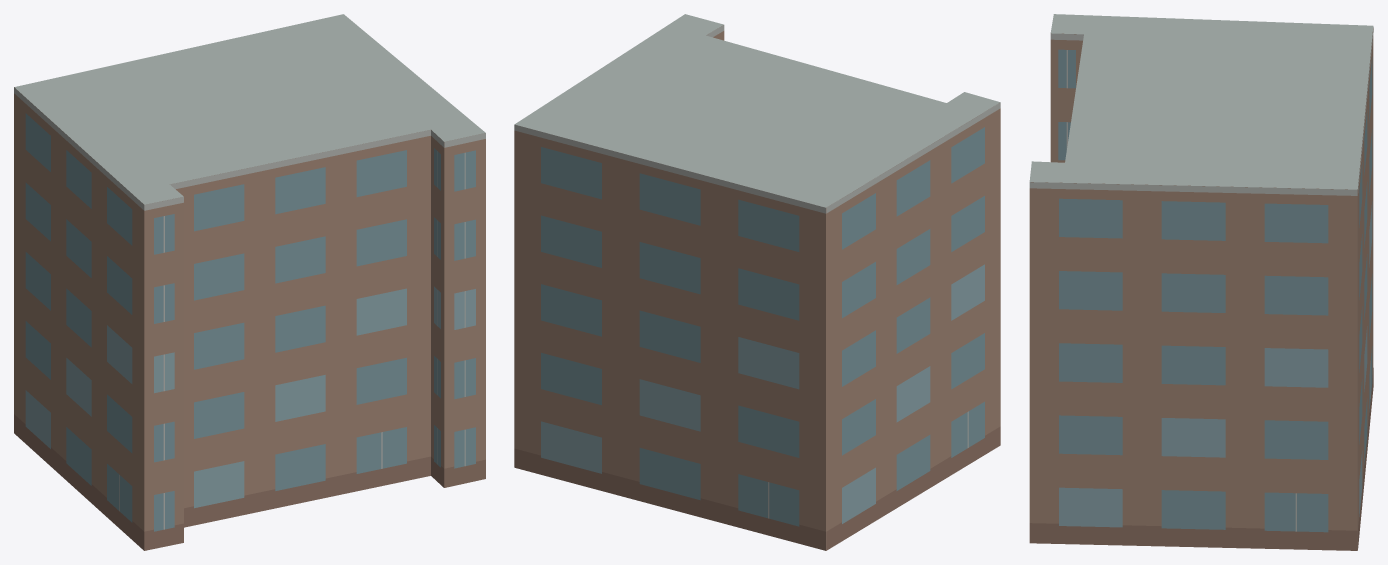
File: survey-upis-32769481.glb
3 views of the same model, side by side, from view 1: azimuth 30°, elevation 25°; view 2: azimuth 150°, elevation 25°; view 3: azimuth 270°, elevation 25° (orthographic). The views are drawn at different scales.
Parts seen in each view (by area): view 1: survey-upis-32769481.tmp; view 2: survey-upis-32769481.tmp; view 3: survey-upis-32769481.tmp.
Boxes of the visible parts, box(x1,y1,x2,y2) form: survey-upis-32769481.tmp: box(14, 14, 485, 550); survey-upis-32769481.tmp: box(514, 14, 1000, 550); survey-upis-32769481.tmp: box(1029, 14, 1373, 550).
Size of the model in its own units: 14.61 by 14 by 12.09.
